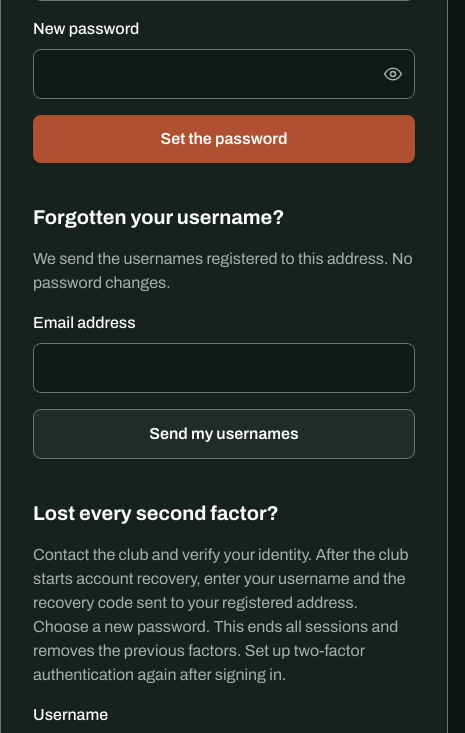
AccountRecoveryView › given a member who forgot their username, when they give their address, then no password is asked for
(page scrolled)
In the field with test id "recovery-email": (224, 368) 33,343 -> 415,393, type "roe@example.org"
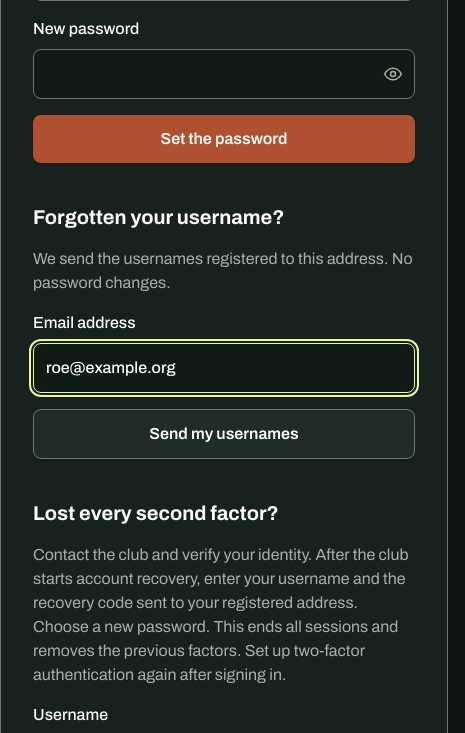
Click the button with test id "recovery-usernames-submit": (224, 434) 33,409 -> 415,459
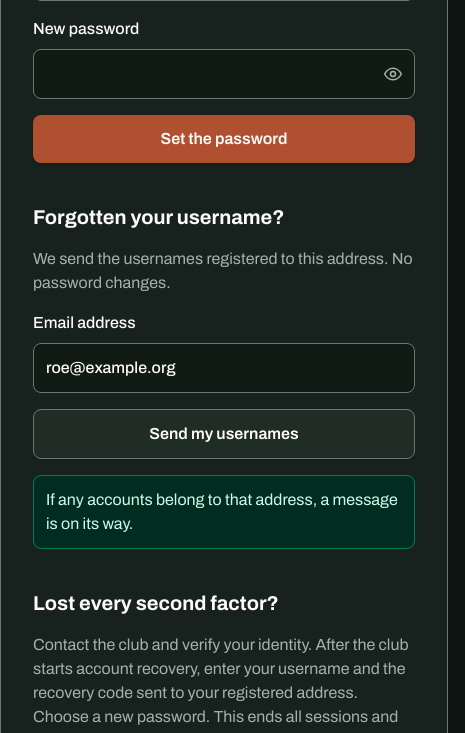
Check: the message with test id "recovery-sent" reads "If any accounts belong to that address, a message is on its way.", box 46,491 -> 398,532
